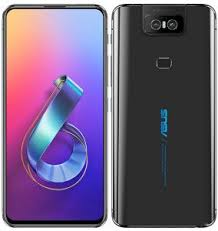asus: (110, 1, 215, 228)
